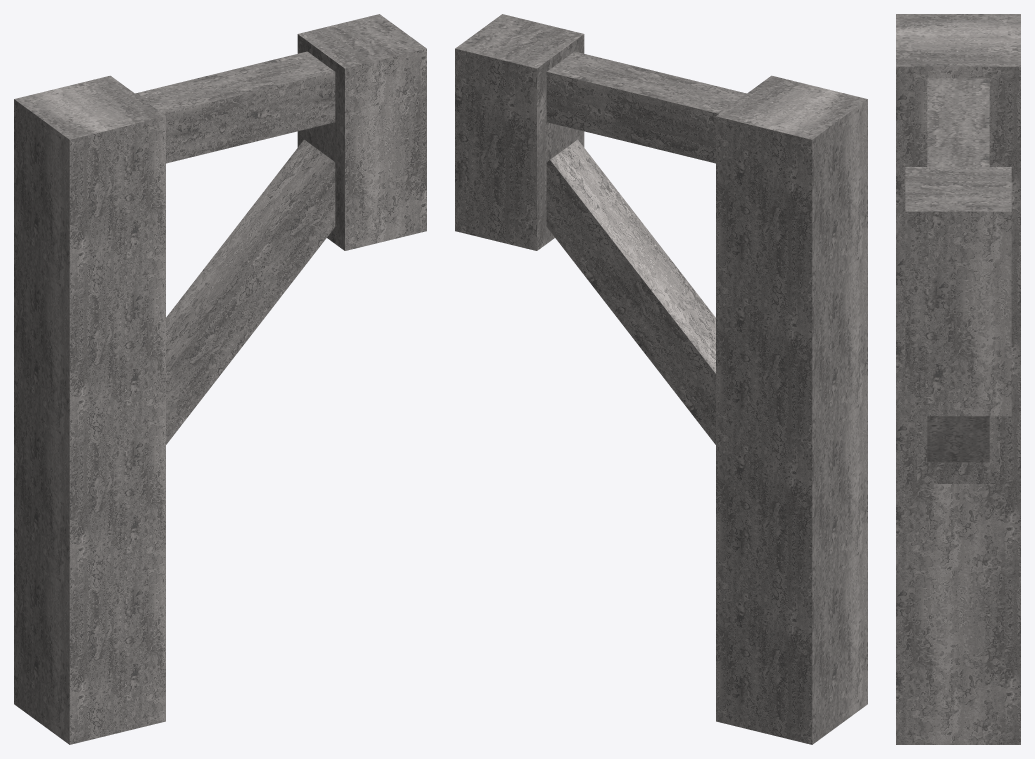
Rendered from MD_Cons_Column00.fbx.
3 renders of one model, left to right at view 1: azimuth 30°, elevation 25°; view 2: azimuth 150°, elevation 25°; view 3: azimuth 270°, elevation 25°, orthographic. The views are drawn at different scales.
Visible parts, largest first — view 1: MD_Cons_Column00; view 2: MD_Cons_Column00; view 3: MD_Cons_Column00.
Part boxes in pixels (x1,y1,x2,y2): MD_Cons_Column00: (14,14,426,744); MD_Cons_Column00: (455,14,867,744); MD_Cons_Column00: (896,14,1020,744).
Bounding box in the file's own units: 187 × 50 × 300.
1 material, 1 textured.
